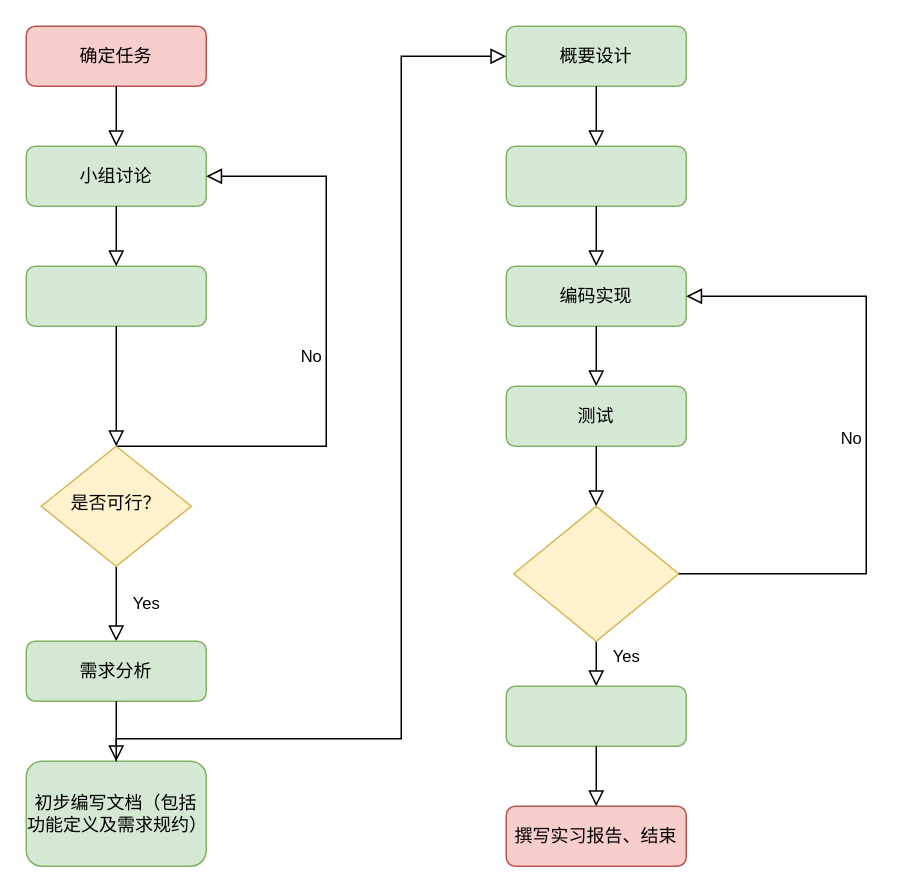
This 908x893 diagram has some shape labels left out. The centre of each missing label's shape, as x and y in pixels:
"可行性分析" goes at (x=115, y=295).
"界面整合、项目部署" goes at (x=595, y=715).
"详细设计" goes at (x=595, y=175).
"通过测试？" goes at (x=595, y=573).
